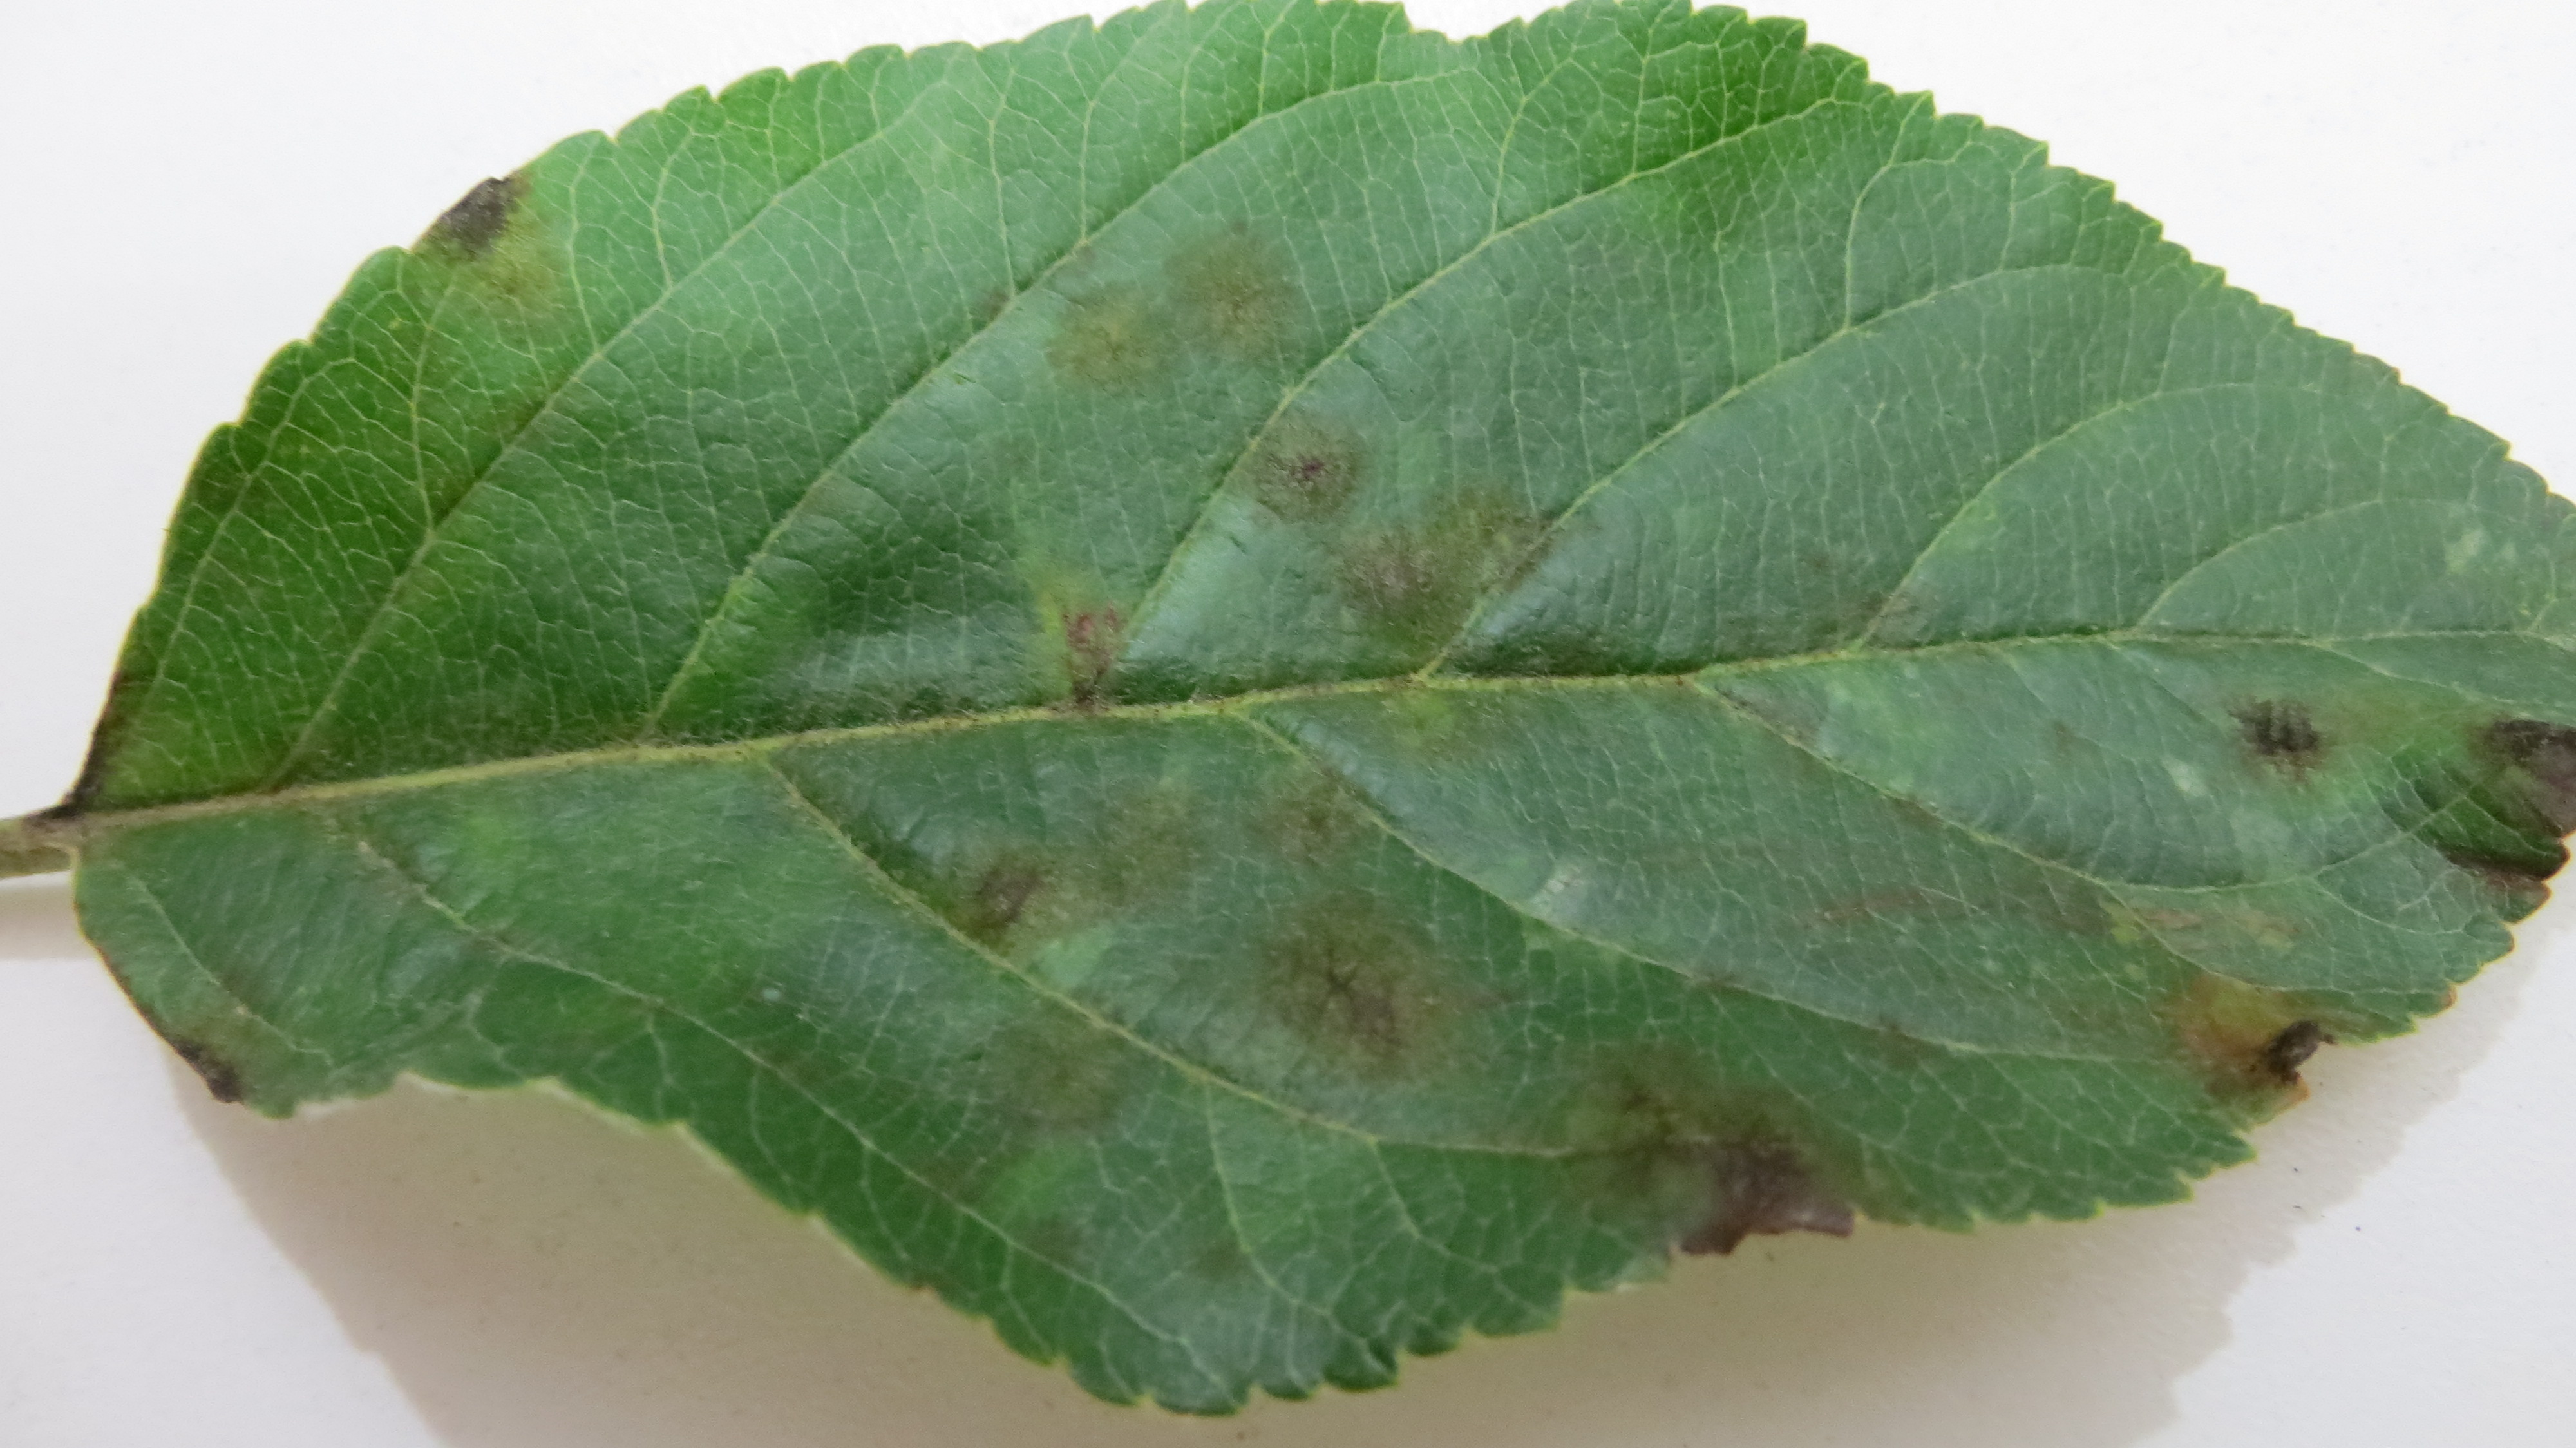sarna: (1325, 466, 1555, 669), (2394, 696, 2574, 933), (1279, 906, 1484, 1103), (966, 958, 1178, 1145), (2174, 965, 2362, 1138), (1072, 751, 1235, 945), (1691, 1082, 1833, 1278), (412, 154, 563, 322), (1215, 381, 1368, 538), (1560, 1025, 1683, 1191), (1175, 214, 1306, 368), (1039, 262, 1178, 404), (962, 821, 1083, 956), (2201, 674, 2344, 786), (1053, 597, 1168, 722), (1258, 761, 1387, 873)
